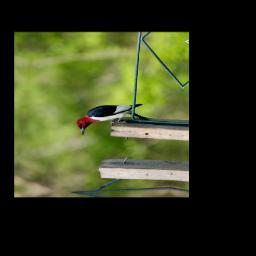Woodpecker: (74, 100, 143, 138)
